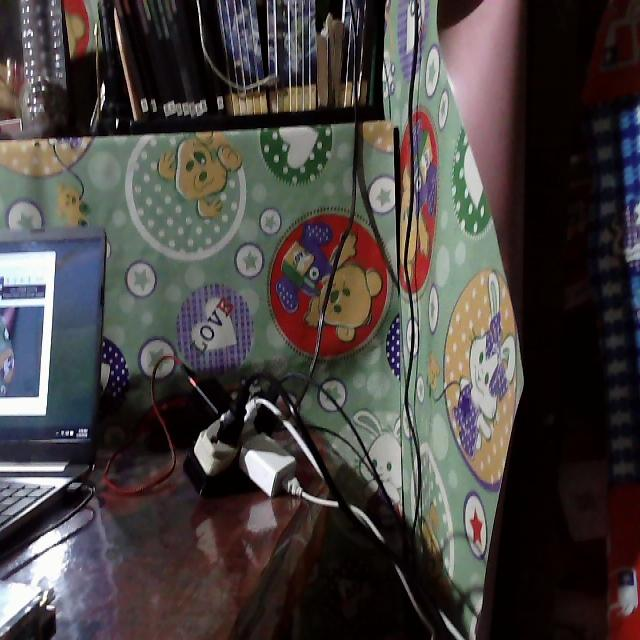-: (176, 364, 315, 503)
